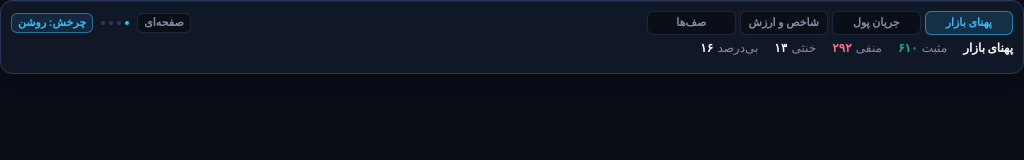
Test: نوارِ خلاصۀ چرخشی › عمقِ نرسیده «بی‌داده» می‌گوید، نه صفِ صفر
Click the button with test id "ticker-tabs-queues" at (691, 23), box [647, 11, 736, 35]
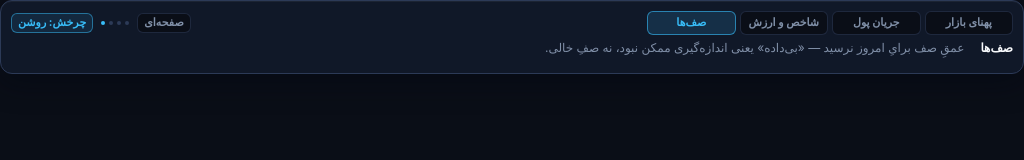
Expected: the text with test id "ticker-no-depth" is shown, [545, 41, 964, 55]
